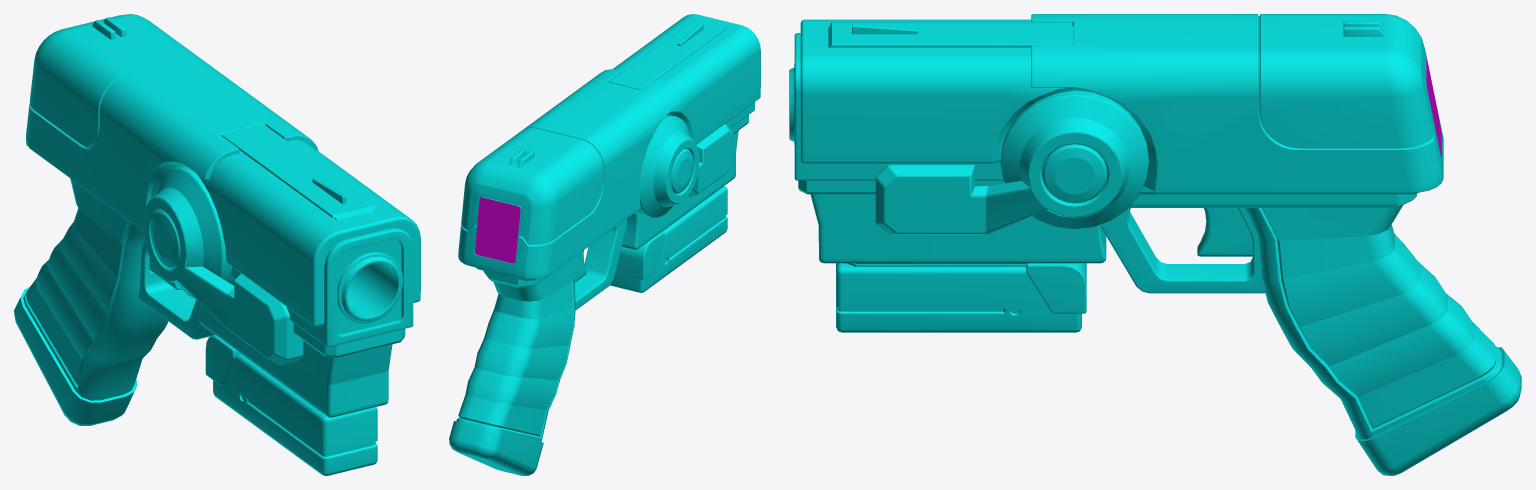
The model's file is Gun_mesh.fbx.
3 renders of one model, left to right at view 1: azimuth 30°, elevation 25°; view 2: azimuth 150°, elevation 25°; view 3: azimuth 270°, elevation 25°, orthographic. The views are drawn at different scales.
Visible parts, largest first — view 1: back_slide_low, grip_low, front_slide_low, energy_cylinder_low, bottombox_low, topbox_low, barrel_frame_low, sight_base_low, barrel_low, guard_low, top_frame_low, corner_guard_low (+1 smaller); view 2: back_slide_low, grip_low, front_slide_low, energy_cylinder_low, bottombox_low, sight_base_low, ammocounter_low, guard_low, topbox_low, corner_guard_low, bottom_frame_low; view 3: back_slide_low, grip_low, front_slide_low, energy_cylinder_low, bottombox_low, topbox_low, guard_low, sight_base_low, bottom_frame_low, barrel_frame_low, corner_guard_low, trigger_low (+1 smaller).
Part boxes in pixels (<box>): back_slide_low: <box>26,14,318,231</box>; grip_low: <box>14,178,168,425</box>; front_slide_low: <box>151,140,420,326</box>; energy_cylinder_low: <box>143,166,303,365</box>; bottombox_low: <box>213,354,377,475</box>; topbox_low: <box>199,303,392,417</box>; barrel_frame_low: <box>230,228,413,347</box>; sight_base_low: <box>222,124,375,220</box>; barrel_low: <box>337,252,403,323</box>; guard_low: <box>138,239,214,339</box>; top_frame_low: <box>231,278,405,357</box>; corner_guard_low: <box>205,335,240,385</box>; back_slide_low: <box>458,69,682,279</box>; grip_low: <box>449,254,578,475</box>; front_slide_low: <box>613,14,760,144</box>; energy_cylinder_low: <box>634,115,733,217</box>; bottombox_low: <box>610,186,727,292</box>; sight_base_low: <box>608,20,725,90</box>; ammocounter_low: <box>475,197,520,263</box>; guard_low: <box>574,219,626,310</box>; topbox_low: <box>621,130,738,249</box>; corner_guard_low: <box>615,231,664,280</box>; bottom_frame_low: <box>483,270,549,287</box>; back_slide_low: <box>1031,14,1443,193</box>; grip_low: <box>1245,205,1521,475</box>; front_slide_low: <box>800,19,1156,190</box>; energy_cylinder_low: <box>875,90,1148,235</box>; bottombox_low: <box>836,263,1081,332</box>; topbox_low: <box>810,194,1106,263</box>; guard_low: <box>1101,208,1265,293</box>; sight_base_low: <box>828,22,1071,47</box>; bottom_frame_low: <box>1129,193,1416,207</box>; barrel_frame_low: <box>794,33,1003,180</box>; corner_guard_low: <box>1026,263,1086,313</box>; trigger_low: <box>1197,208,1252,256</box>.
Size of the model in its own units: 5.1 by 12.48 by 18.7.
